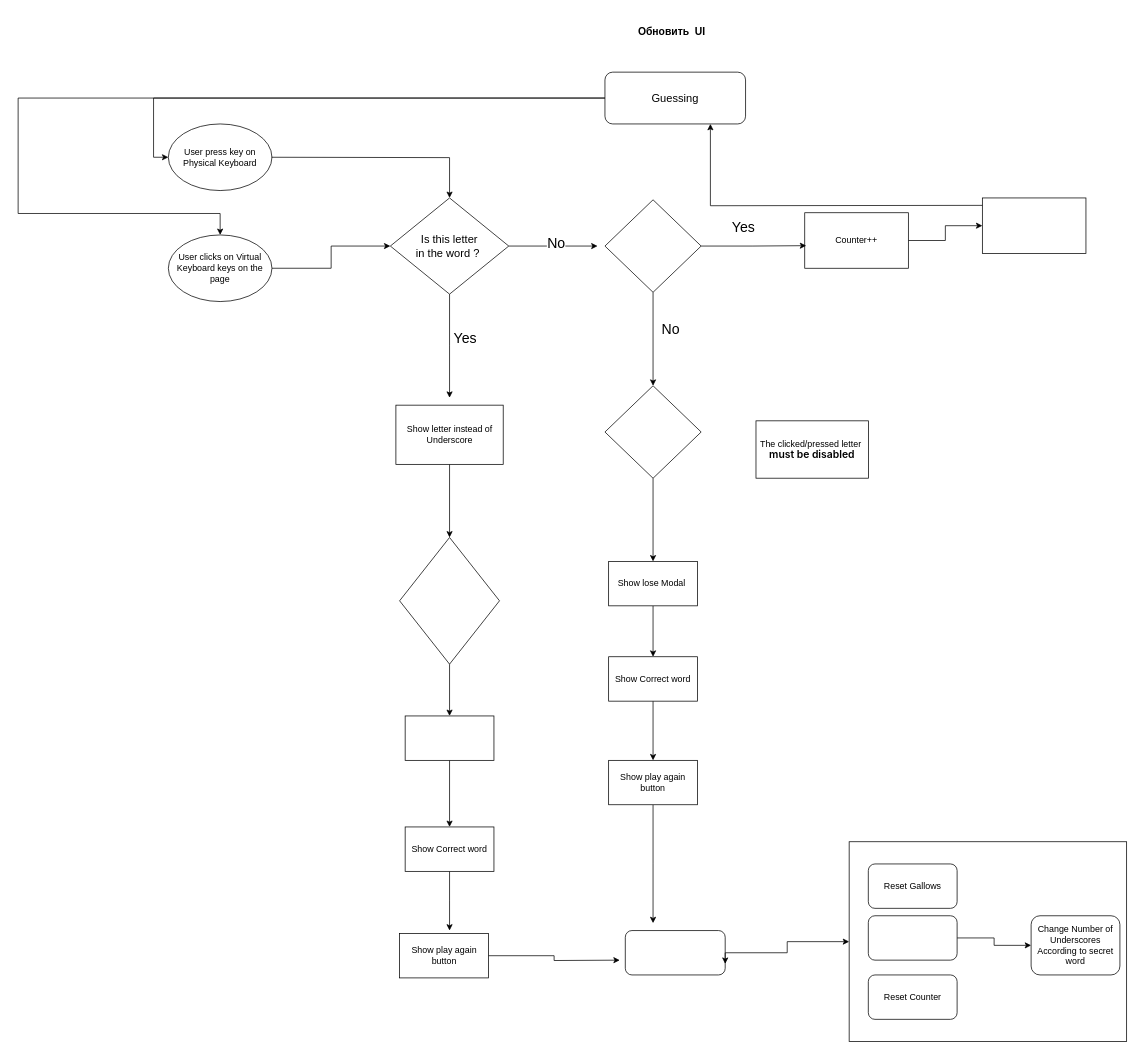
Some shapes in this 1140 by 1055 pixel diagram are drawn without their labels. The box of each missing label's shape, as (x1, y1, x2, y2) in pixels:
Add body part to Gallows: (982, 197, 1086, 253)
Change Question: (868, 915, 957, 960)
Counter < 6 ?: (604, 199, 701, 292)
If Counter == 6: (604, 385, 701, 478)
No underscores left ?: (399, 537, 500, 664)
Show win modal: (404, 715, 494, 760)
User Clicks Play again Button: (625, 930, 725, 975)
